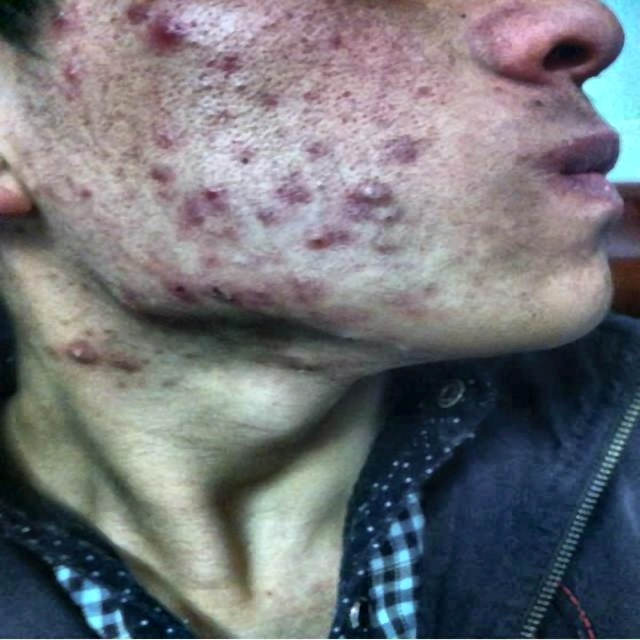papule: (137, 3, 198, 66), (346, 168, 412, 198), (255, 340, 318, 371), (266, 175, 322, 209), (160, 266, 203, 307), (203, 278, 254, 312), (316, 296, 375, 324), (187, 181, 232, 217), (242, 276, 280, 314), (56, 330, 97, 364), (363, 138, 412, 164), (33, 4, 86, 28), (283, 269, 334, 292), (197, 50, 242, 76), (46, 56, 86, 84), (300, 226, 340, 254), (286, 134, 323, 164), (358, 192, 390, 224), (153, 128, 197, 151), (137, 166, 177, 191), (74, 175, 105, 200), (177, 206, 204, 233), (209, 219, 240, 239), (188, 248, 223, 264), (260, 200, 276, 217)
